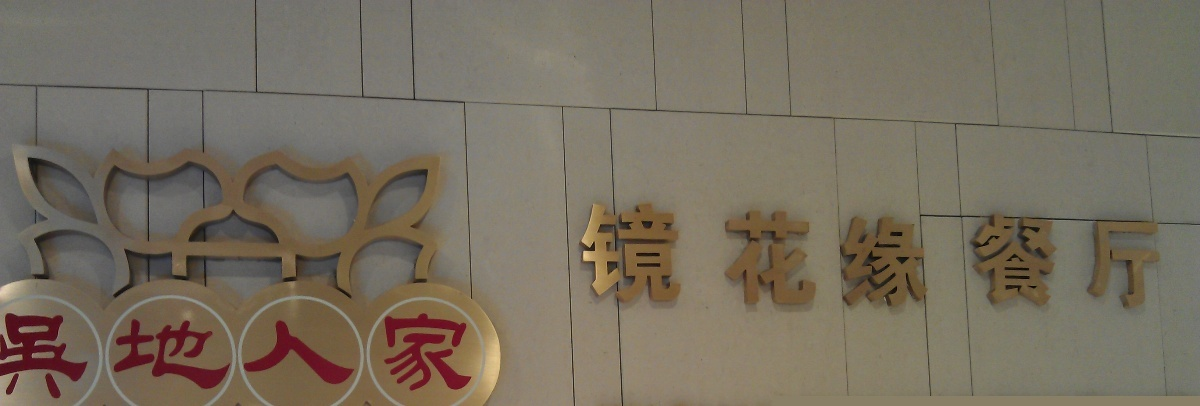text: (593, 202, 608, 311), (609, 202, 624, 311), (625, 202, 640, 311), (641, 202, 656, 311), (657, 202, 672, 311), (673, 202, 688, 311), (689, 202, 704, 311), (705, 202, 720, 311), (721, 202, 736, 311), (737, 202, 752, 311), (753, 202, 768, 311), (769, 202, 784, 311), (785, 202, 800, 311), (801, 202, 816, 311), (817, 202, 832, 311), (833, 202, 848, 311), (849, 202, 864, 311), (865, 202, 880, 311), (881, 202, 896, 311), (897, 202, 912, 311), (913, 202, 928, 311), (929, 202, 944, 311), (945, 202, 960, 311), (961, 202, 976, 311), (977, 202, 992, 311), (993, 202, 1008, 311), (1009, 202, 1024, 311), (1025, 202, 1040, 311), (1041, 202, 1056, 311), (1057, 202, 1072, 311), (1073, 202, 1088, 311), (1089, 202, 1104, 311), (1105, 202, 1120, 311), (1121, 202, 1136, 311), (1137, 202, 1152, 311), (580, 202, 592, 311), (1, 313, 16, 398), (17, 313, 32, 398), (33, 313, 48, 398), (49, 313, 64, 398), (65, 313, 80, 398), (81, 313, 96, 398), (97, 313, 112, 398), (113, 313, 128, 398), (129, 313, 144, 398), (145, 313, 160, 398), (161, 313, 176, 398), (177, 313, 192, 398), (193, 313, 208, 398), (209, 313, 224, 398), (225, 313, 240, 398), (241, 313, 256, 398), (257, 313, 272, 398), (273, 313, 288, 398), (289, 313, 304, 398), (305, 313, 320, 398), (321, 313, 336, 398), (337, 313, 352, 398), (353, 313, 368, 398), (369, 313, 384, 398), (385, 313, 400, 398), (401, 313, 416, 398), (417, 313, 432, 398), (433, 313, 448, 398), (449, 313, 464, 398), (1153, 202, 1161, 311), (465, 313, 474, 398)
